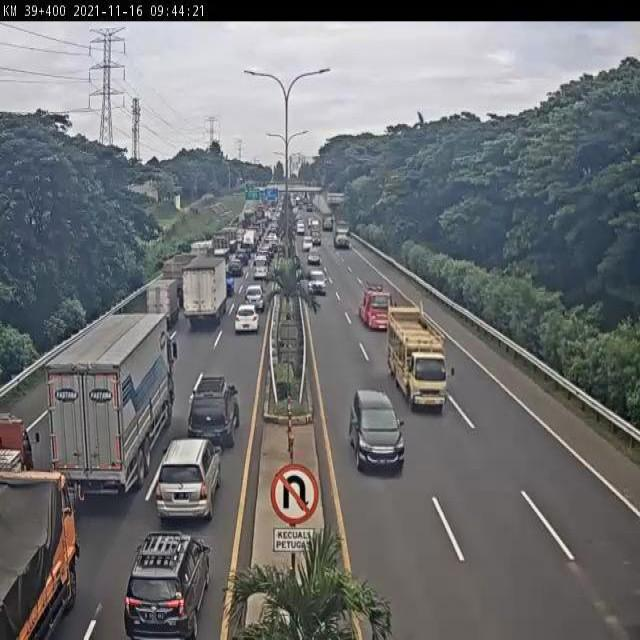car: (129, 521, 201, 631), (157, 435, 221, 521), (349, 390, 405, 478), (191, 368, 236, 444), (232, 303, 265, 336), (238, 287, 266, 305), (307, 262, 326, 286), (251, 260, 268, 281), (227, 258, 241, 282), (306, 244, 321, 260), (310, 227, 320, 245), (297, 220, 305, 235), (302, 235, 309, 244), (310, 219, 317, 225)
small truck: (390, 308, 451, 415), (360, 279, 396, 332), (141, 280, 177, 325), (321, 215, 334, 232)
truck-l-: (43, 316, 180, 497), (331, 220, 350, 252)
truck-m-: (0, 472, 77, 640), (181, 256, 228, 329)
